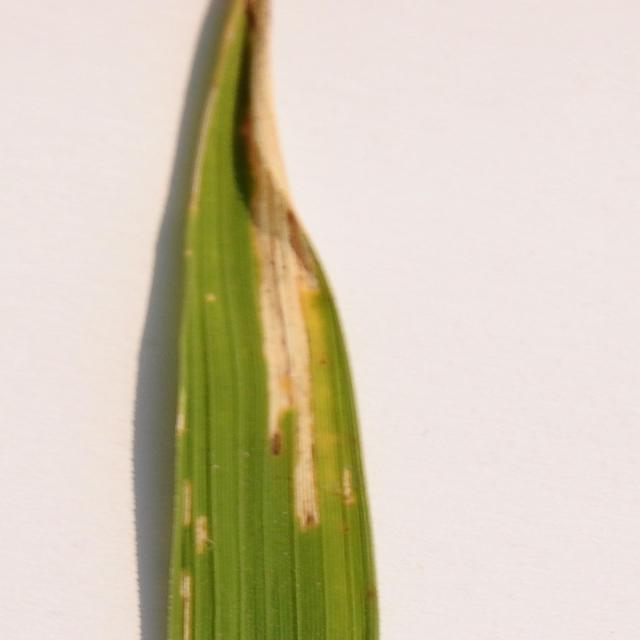Bacterial_Leaf_Blight: (179, 8, 391, 640)
